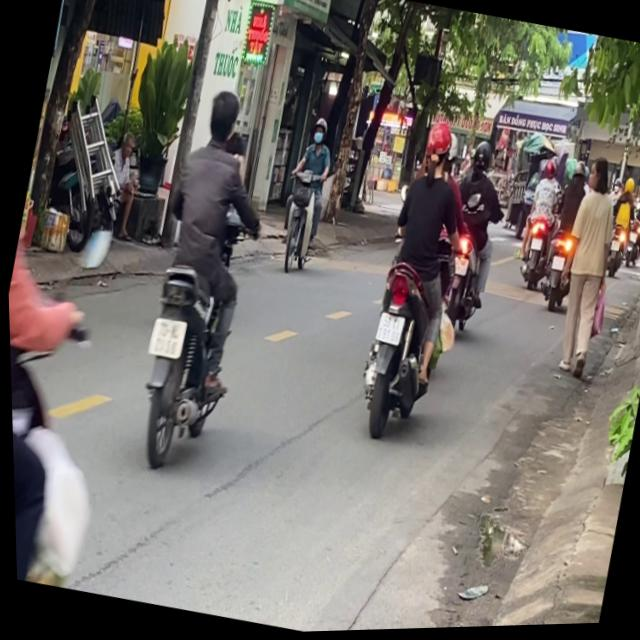helmet: (415, 117, 455, 180), (466, 139, 492, 178), (307, 116, 328, 147)
licenseplate: (109, 75, 289, 476), (338, 108, 492, 447), (425, 135, 517, 342), (265, 112, 343, 276)
motorcyclist: (199, 83, 243, 148)
nohelmet: (143, 316, 183, 359), (371, 313, 401, 346)
